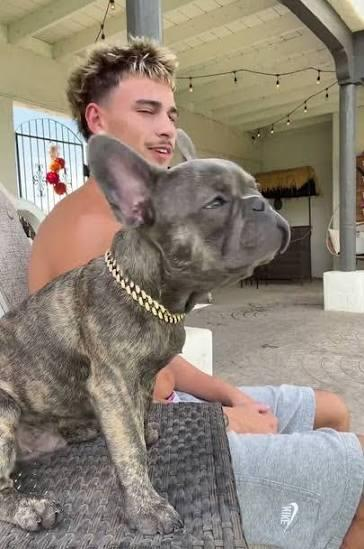adult_dog: (0, 134, 291, 538)
non-dog: (26, 32, 364, 549)
